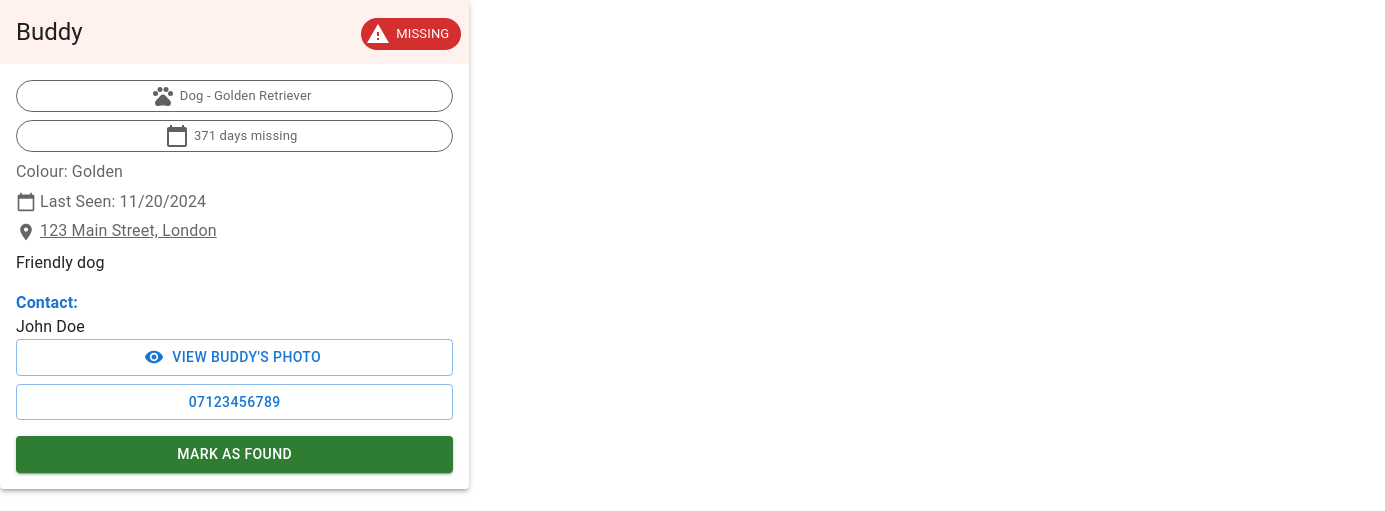
Test case: PetList › Mark as Found Functionality › should display success snackbar after marking pet as found
Click the button "Mark as Found": click(235, 454) [16, 436, 453, 473]
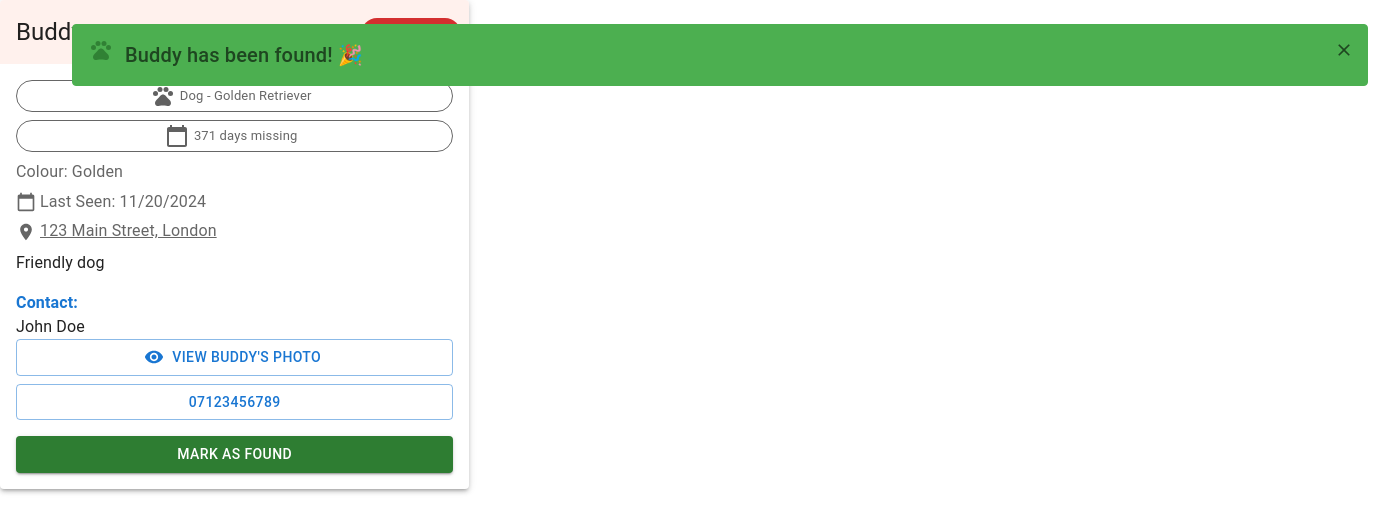
Result: the heading "Buddy has been found! 🎉" is shown at [125, 39, 363, 71]
